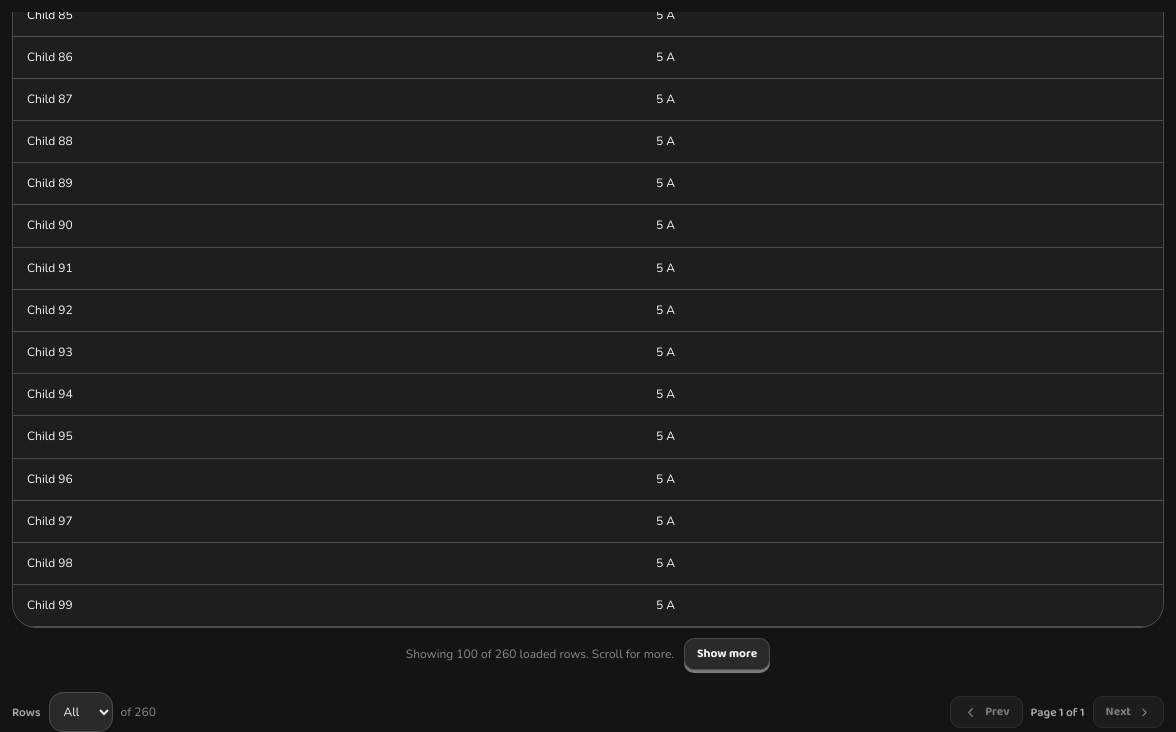
it: a new set of rows starts painting from the top again
The image size is (1176, 732).
Later steps or results of the test are not shown.
(page scrolled)
Click the button with test id "roll-draw-more-button" at {"x": 727, "y": 654}, box left=684, top=638, right=770, bottom=670
(page scrolled)
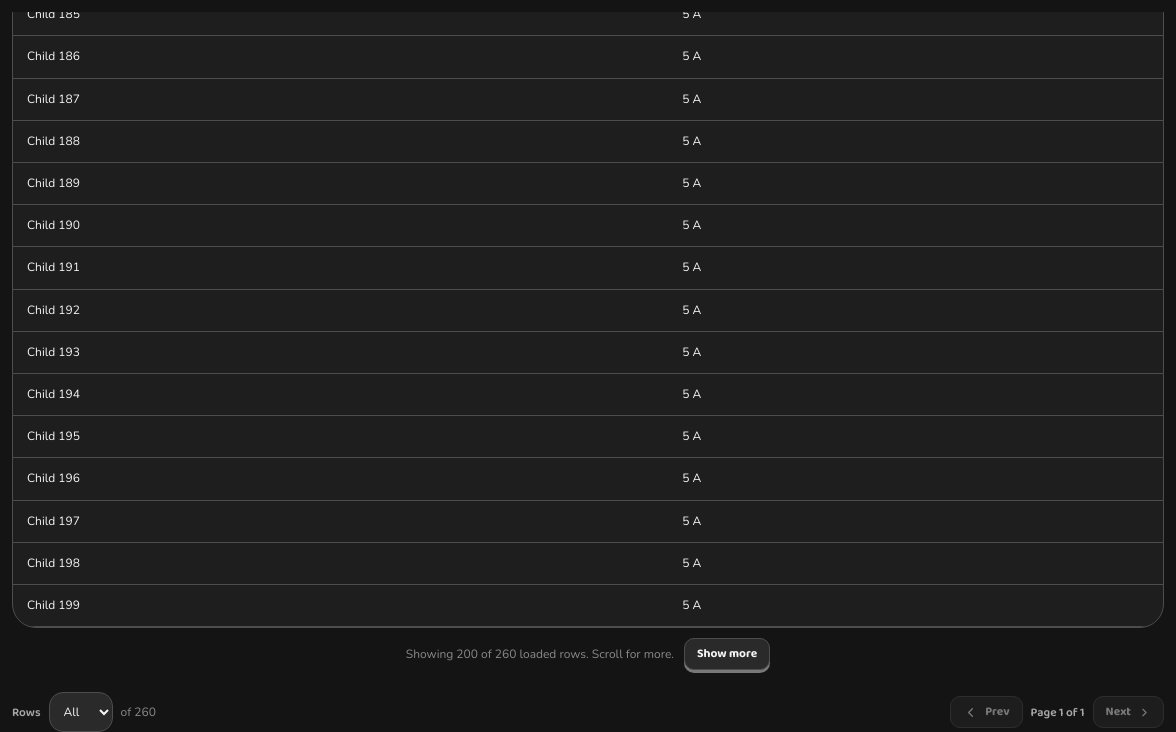
Result: the text with test id "roll-drawn-count" shows "Showing 200 of 260" at left=406, top=646, right=674, bottom=662
